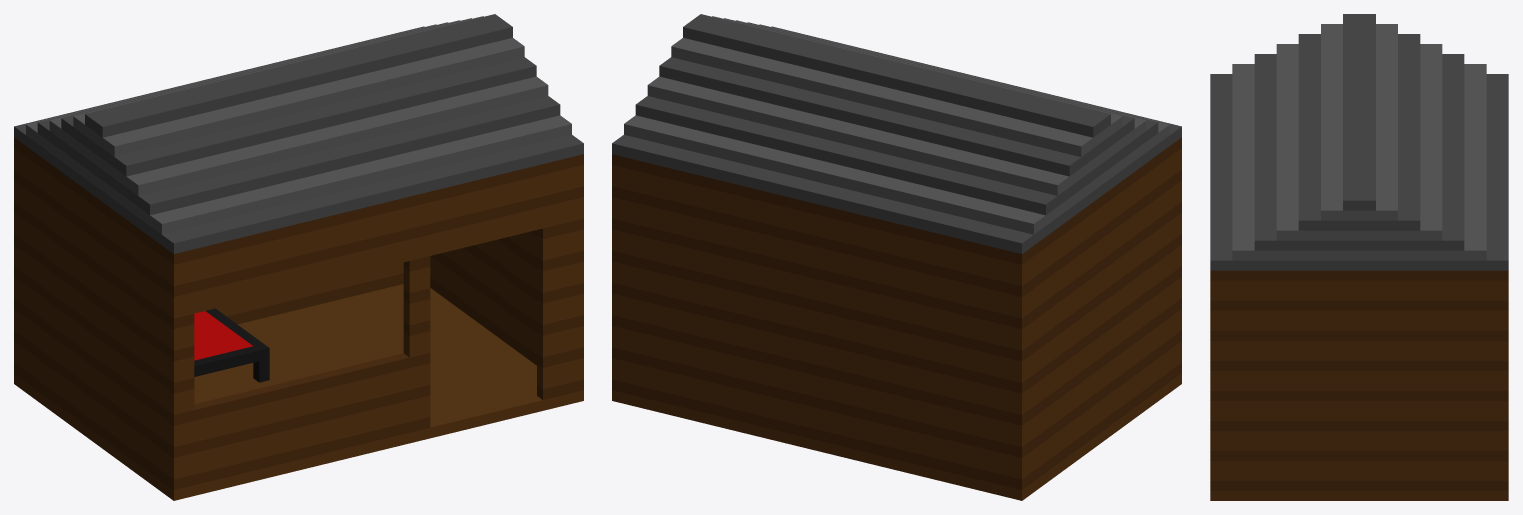
Rendered from House.obj.
3 renders of one model, left to right at view 1: azimuth 30°, elevation 25°; view 2: azimuth 150°, elevation 25°; view 3: azimuth 270°, elevation 25°, orthographic. The views are drawn at different scales.
Bounding box in the file's own units: 4 × 3 × 2.7.
Materials: 1 (1 with a texture image).
